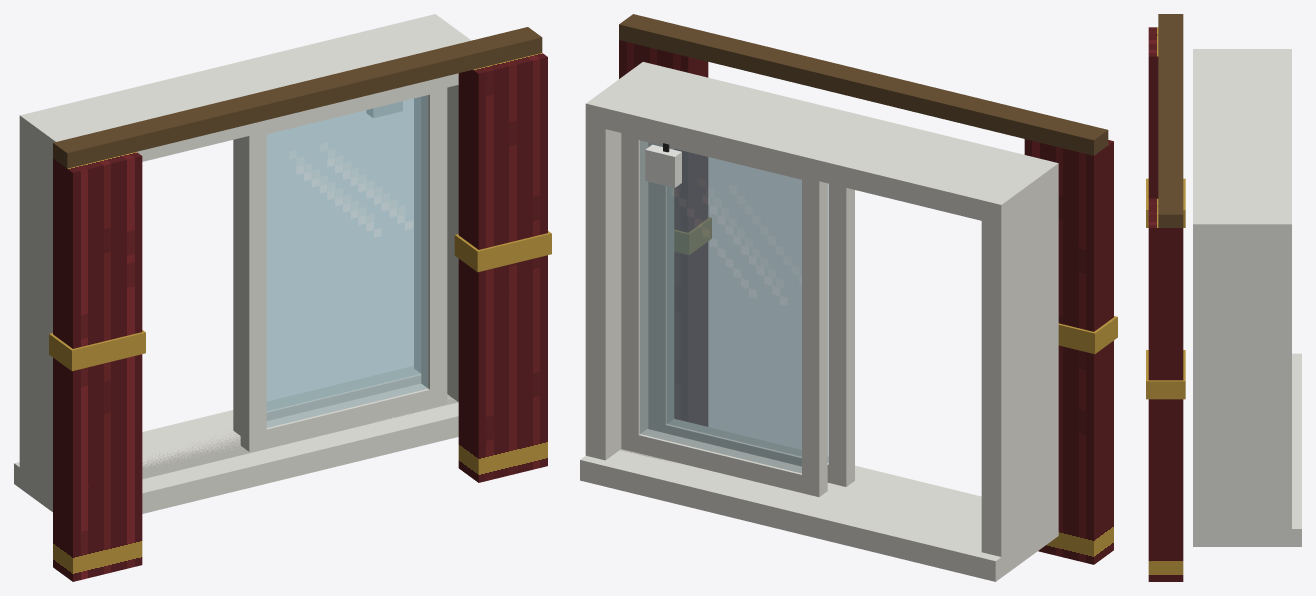
The model's file is t_window_open_alarm.glb.
The picture shows the model from 3 angles, left to right: view 1: azimuth 30°, elevation 25°; view 2: azimuth 150°, elevation 25°; view 3: azimuth 270°, elevation 25°; orthographic projection. The views are drawn at different scales.
Parts seen in each view (by area): view 1: block_slider-glass, block_fixed-glass, block_curtain-1, block_curtain1, block_lintel, block_sill, block_rod, block_stile-1, block_slider-l, block_slider-r, block_slider-bottom, block_stile1 (+7 smaller); view 2: block_fixed-glass, block_slider-glass, block_lintel, block_stile-1, block_sill, block_curtain-1, block_rod, block_stile1, block_curtain1, block_fixed-r, block_fixed-l, block_slider-l (+6 smaller); view 3: block_stile1, block_lintel, block_curtain1, block_rod, block_sill, block_curtain-1, block_tie1, block_stile-1, block_tie-1.
Part boxes in pixels (x1,y1,x2,y2): block_slider-glass: (266, 95, 428, 427); block_fixed-glass: (267, 97, 420, 410); block_curtain-1: (53, 152, 142, 581); block_curtain1: (458, 53, 547, 482); block_lintel: (19, 14, 471, 161); block_sill: (14, 366, 458, 513); block_rod: (53, 27, 542, 168); block_stile-1: (19, 113, 74, 510); block_slider-l: (240, 132, 266, 450); block_slider-r: (421, 90, 447, 407); block_slider-bottom: (240, 383, 447, 451); block_stile1: (417, 14, 470, 401); block_fixed-glass: (640, 140, 801, 473); block_slider-glass: (667, 148, 828, 463); block_lintel: (585, 62, 1058, 225); block_stile-1: (981, 160, 1058, 576); block_sill: (580, 450, 1058, 581); block_curtain-1: (1024, 139, 1113, 564); block_rod: (619, 14, 1108, 155); block_stile1: (585, 62, 660, 460); block_curtain1: (619, 40, 708, 426); block_fixed-r: (621, 134, 647, 452); block_fixed-l: (802, 177, 827, 496); block_slider-l: (829, 183, 854, 486); block_stile1: (1193, 216, 1291, 546); block_lintel: (1193, 49, 1291, 242); block_curtain1: (1148, 198, 1183, 581); block_rod: (1158, 14, 1183, 227); block_sill: (1193, 353, 1301, 546); block_curtain-1: (1148, 27, 1158, 198); block_tie1: (1146, 350, 1185, 399); block_stile-1: (1193, 49, 1291, 57); block_tie-1: (1146, 178, 1185, 227).
Bounding box in the file's own units: 0.97 × 0.82 × 0.315.
Materials: 2 (2 with a texture image).
